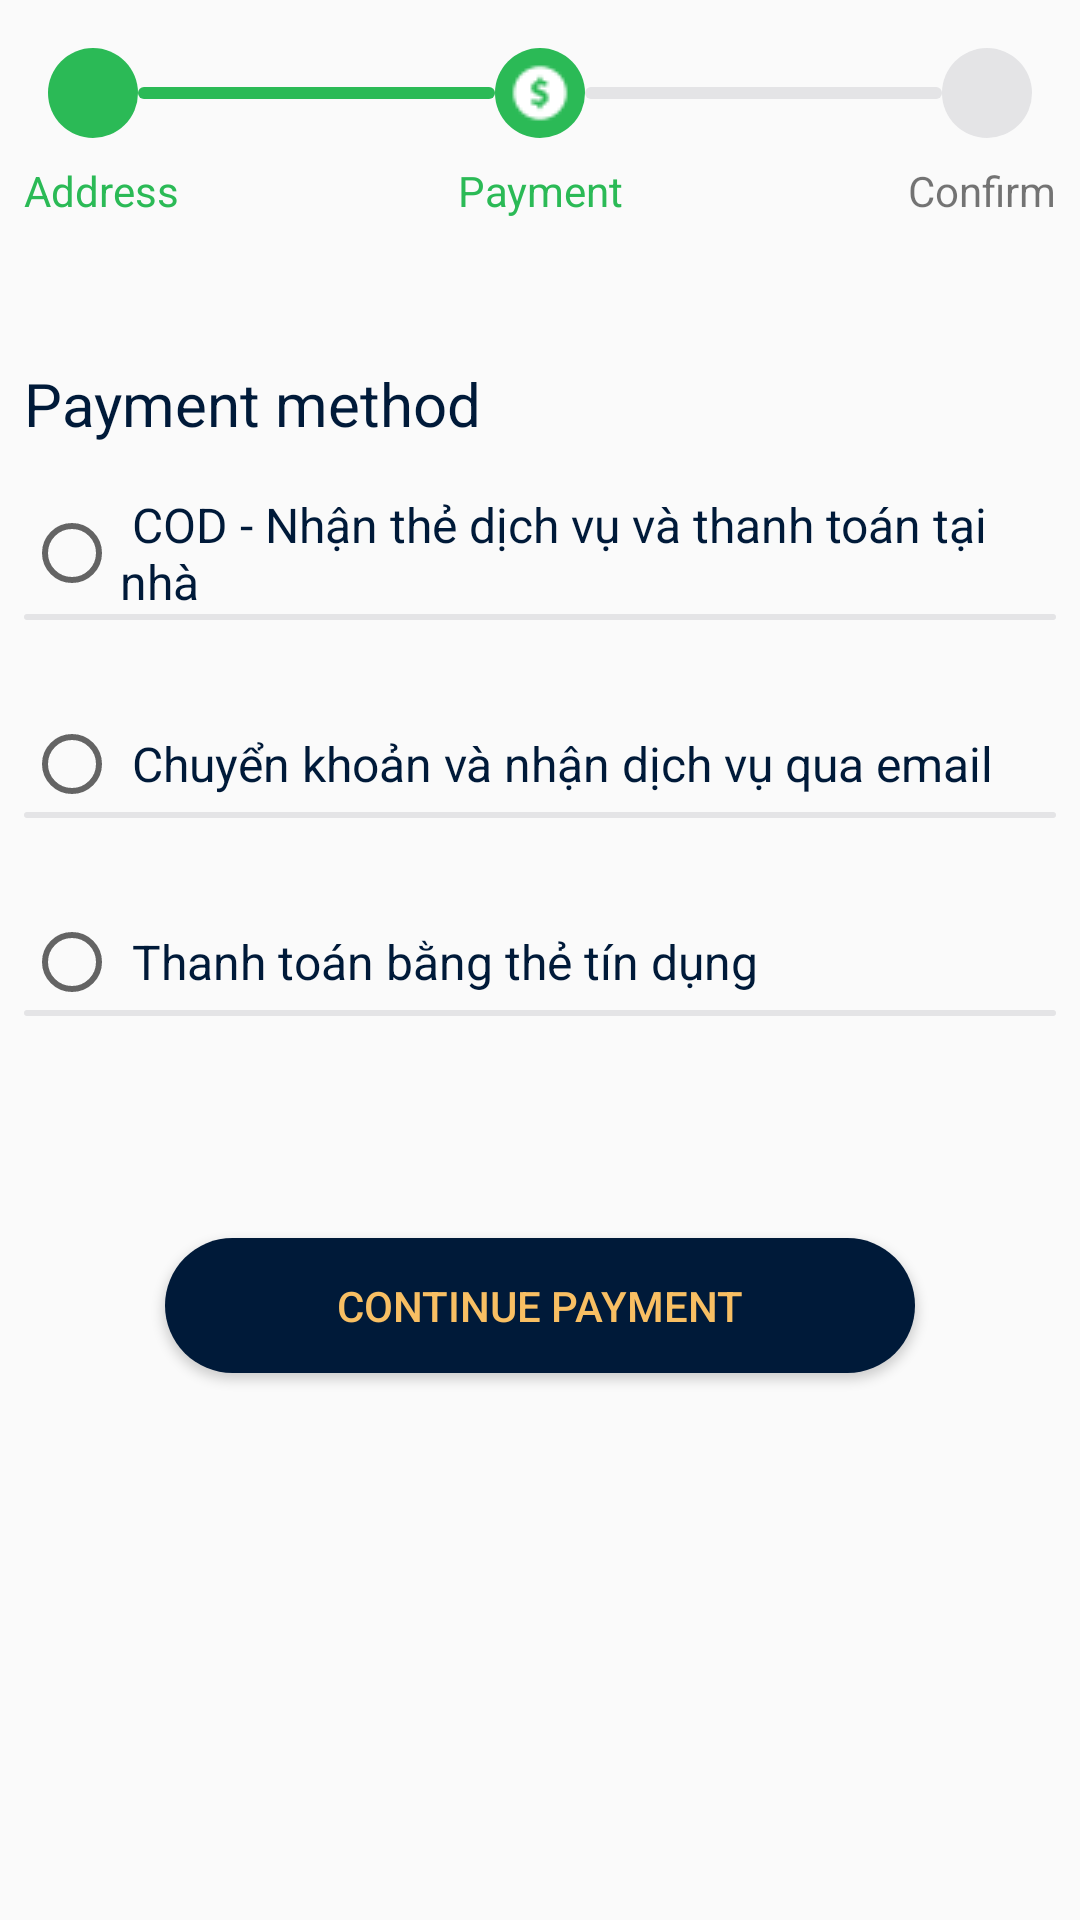

Named icons in this screenshot (1080×1920) and their bounding boxes, box(x1, y1, x2, y2):
notifi dollar: box(495, 48, 585, 138)
